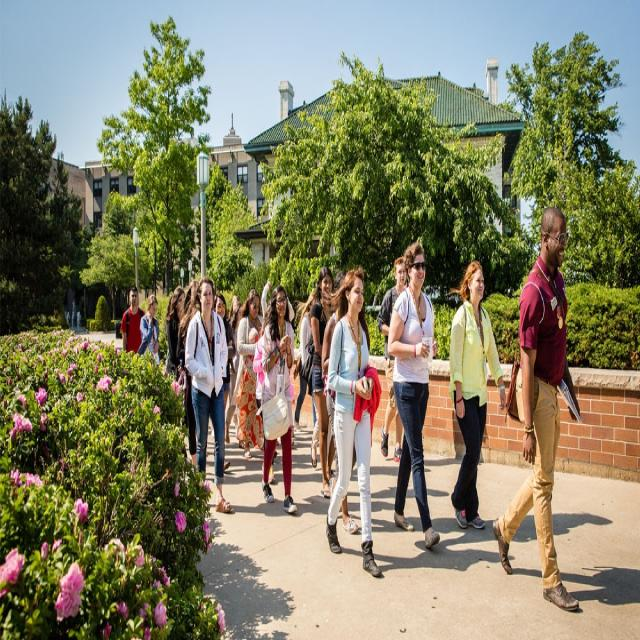body: (261, 458, 640, 606), (489, 203, 582, 615), (324, 264, 384, 581), (386, 239, 441, 551), (446, 257, 508, 532), (181, 276, 234, 516), (255, 282, 299, 517), (320, 303, 360, 536), (308, 264, 336, 499), (376, 256, 407, 463), (259, 278, 296, 447), (230, 288, 266, 461), (174, 279, 200, 471), (211, 292, 237, 474), (252, 302, 274, 486), (292, 289, 318, 433), (224, 300, 247, 450), (165, 285, 187, 386), (227, 292, 243, 430), (136, 293, 162, 368), (120, 286, 146, 353), (163, 292, 176, 338)
